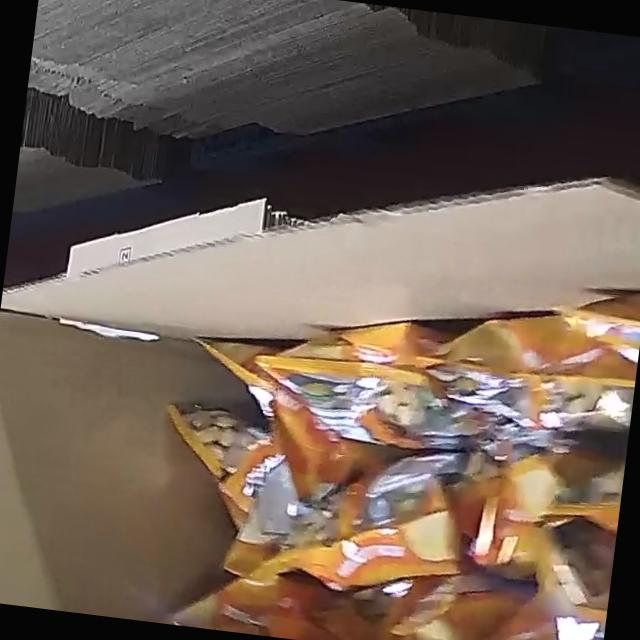cheese: (133, 238, 640, 640)
